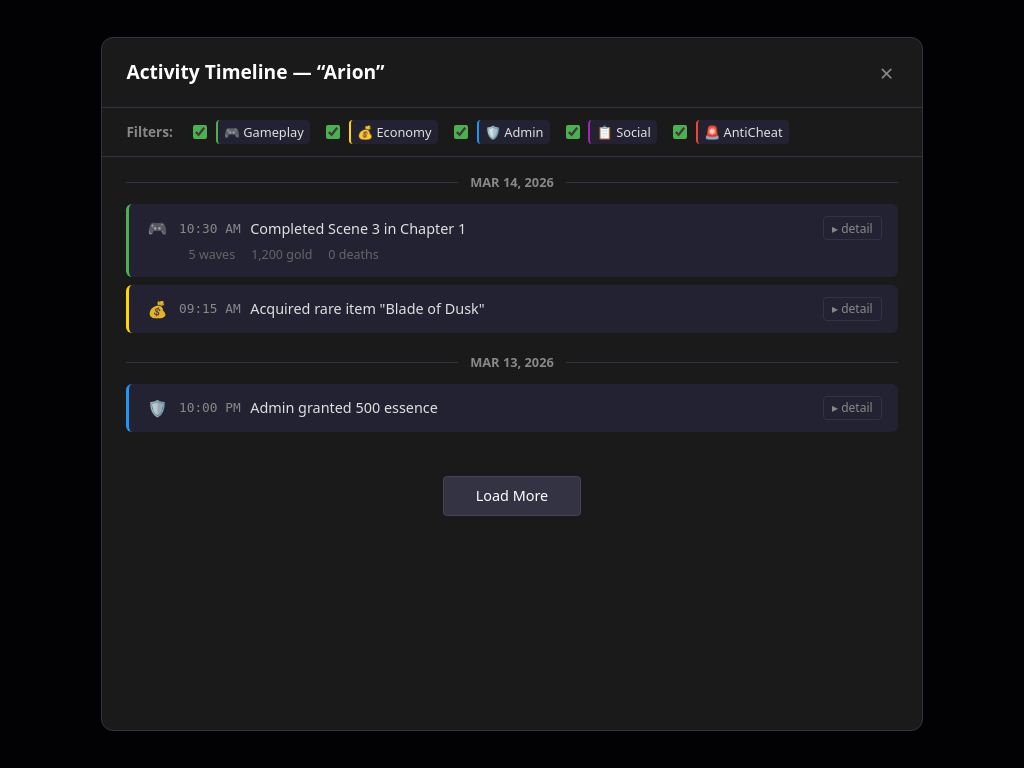
Scenario: ActivityTimelineModal › load more pagination works
Step 1. Click the button "Load More" → (512, 496), box [443,476,581,516]
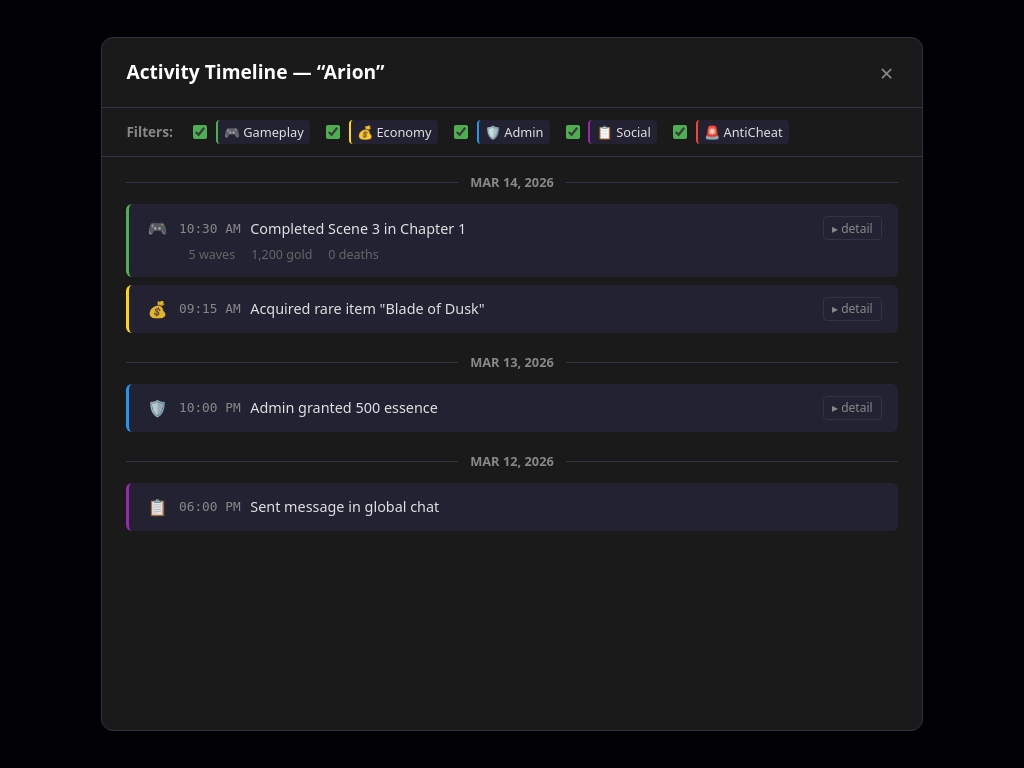
Result: the text "Sent message in global chat" is shown at [250,497,439,516]
Result: the button "Load More" is gone
